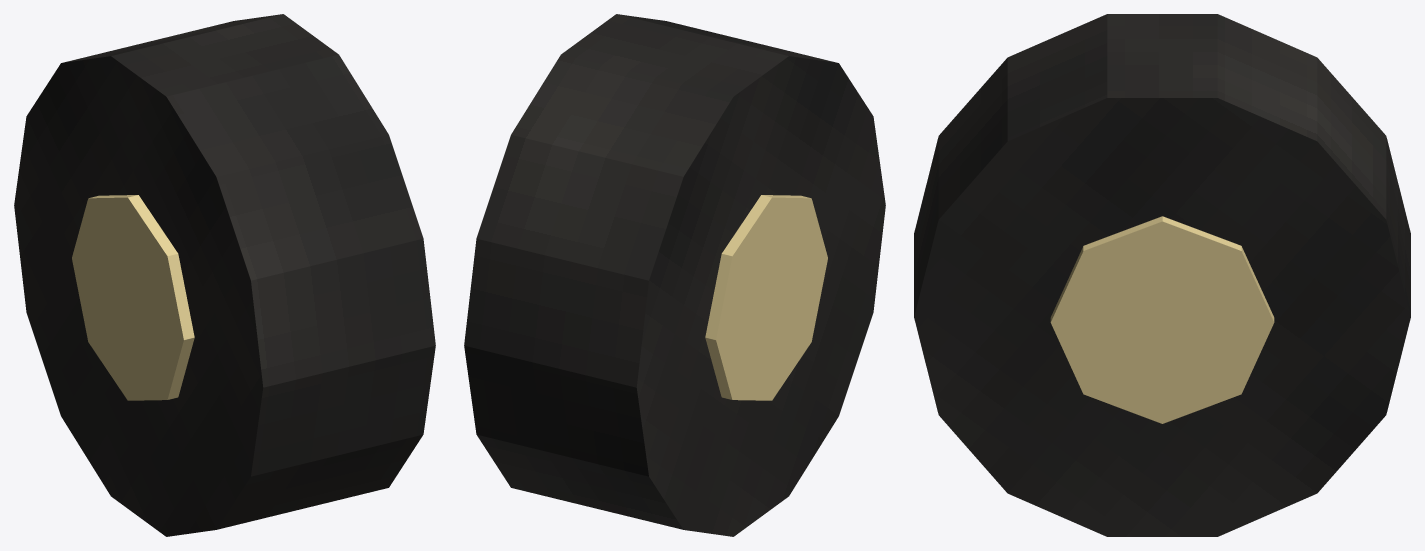
File: wheel.glb
3 views of the same model, side by side, from view 1: azimuth 30°, elevation 25°; view 2: azimuth 150°, elevation 25°; view 3: azimuth 270°, elevation 25° (orthographic).
Visible parts, largest first — view 1: wheel, hub; view 2: wheel, hub; view 3: wheel, hub.
Boxes of the visible parts, x1=… form: wheel: x1=14, y1=14, x2=435, y2=536; hub: x1=72, y1=195, x2=194, y2=400; wheel: x1=464, y1=14, x2=885, y2=536; hub: x1=705, y1=195, x2=827, y2=400; wheel: x1=914, y1=14, x2=1410, y2=536; hub: x1=1050, y1=216, x2=1274, y2=423.
Bounding box in the file's own units: 0.18 × 0.39 × 0.4.
Materials: 2 (1 with a texture image).
